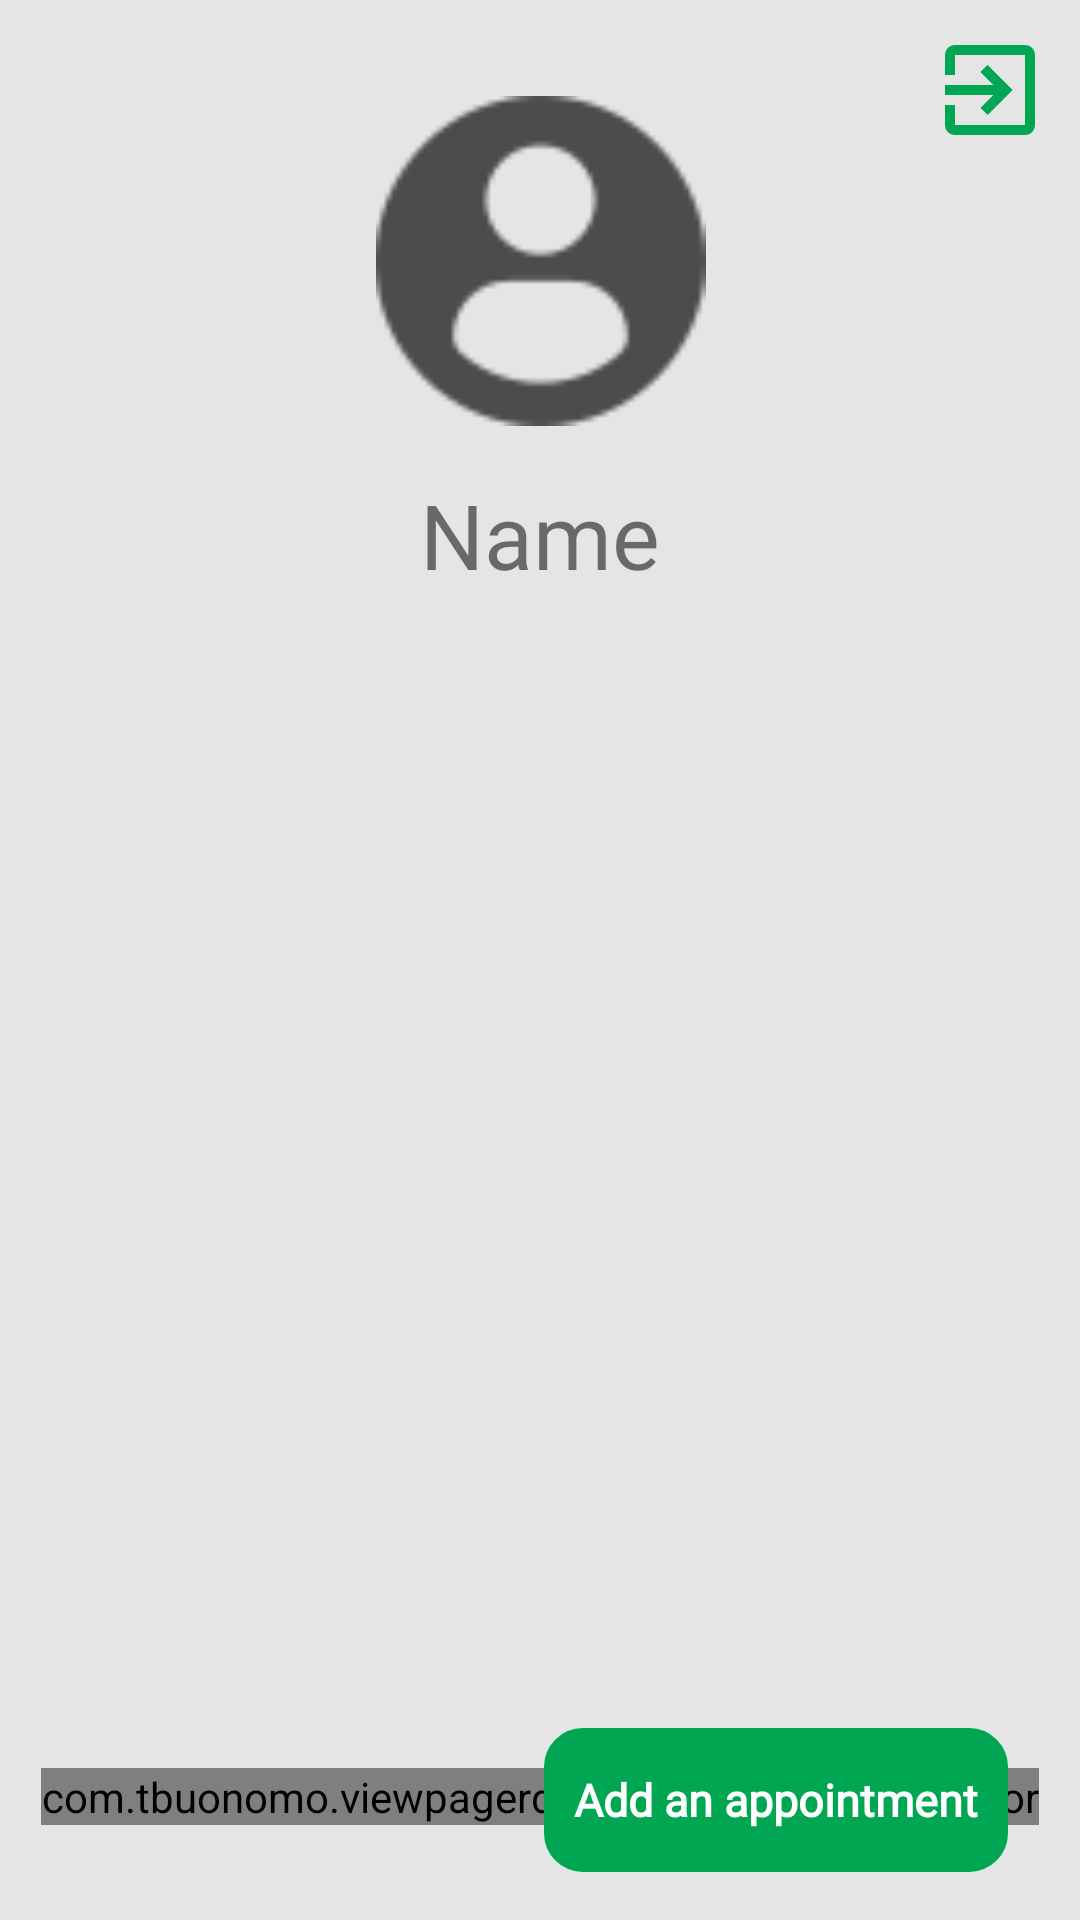

Where to tap for icons on this 1080px×1920px app screen, as (x=x, y=y):
exit to app: (x=990, y=90)
profile user: (x=541, y=261)
